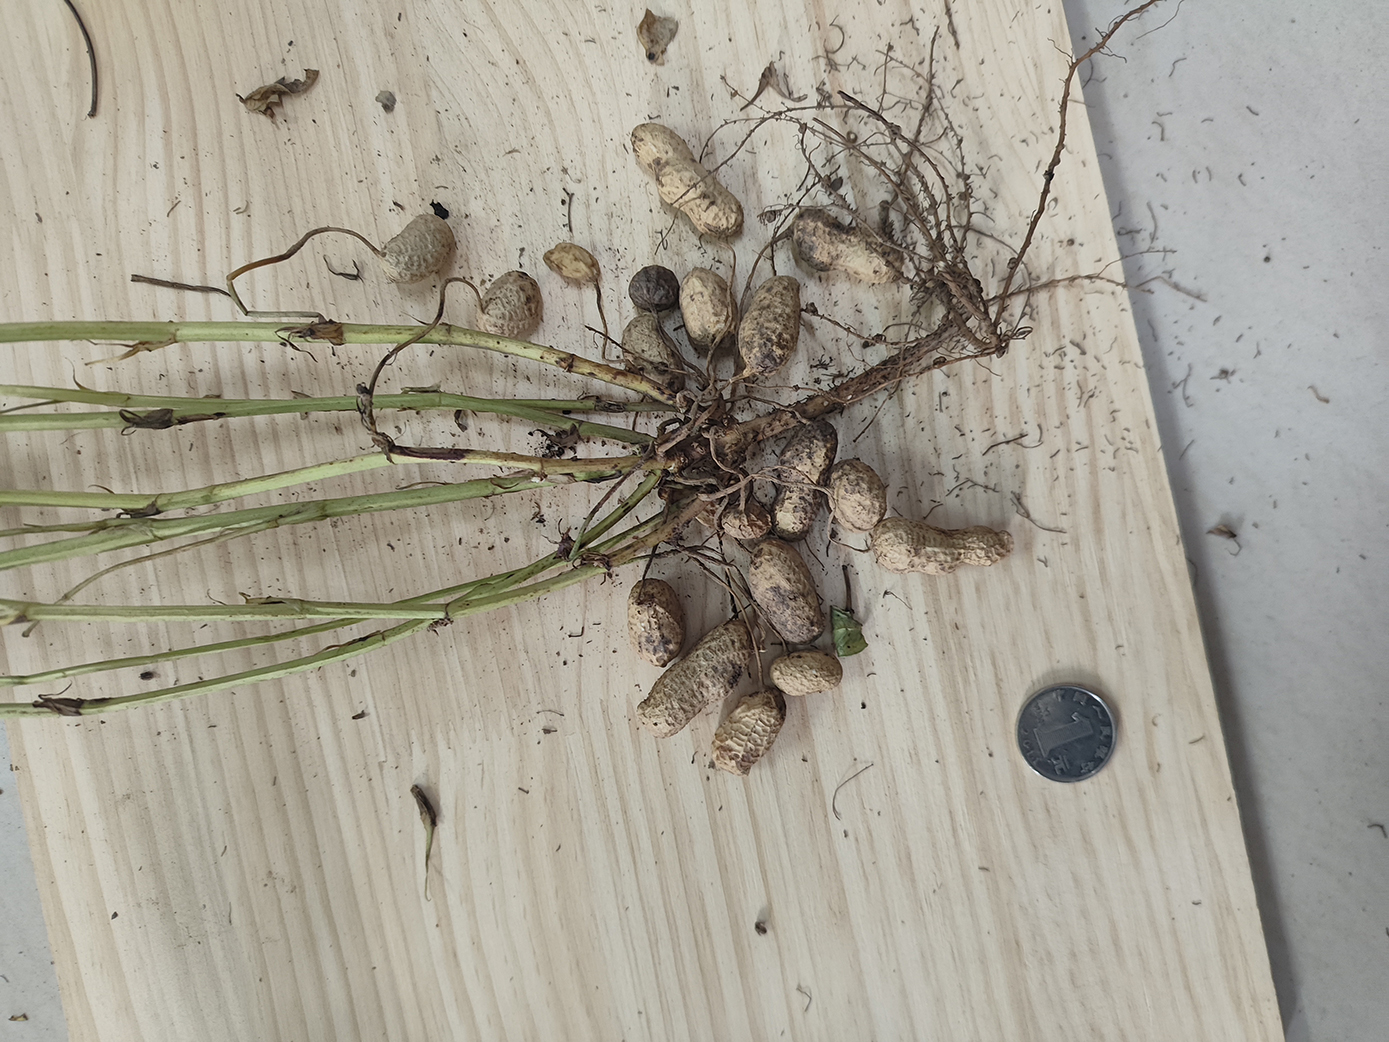h: (635, 620, 751, 739), (630, 121, 745, 240), (771, 419, 840, 542), (748, 539, 826, 646), (791, 208, 903, 283), (870, 516, 1014, 574), (711, 688, 787, 777), (738, 275, 801, 377), (627, 578, 687, 668), (379, 213, 455, 283), (621, 314, 686, 394), (680, 267, 738, 355), (475, 270, 543, 340), (825, 458, 886, 533), (768, 650, 843, 697), (544, 243, 601, 285), (721, 502, 771, 540)
l: (628, 265, 679, 311)
